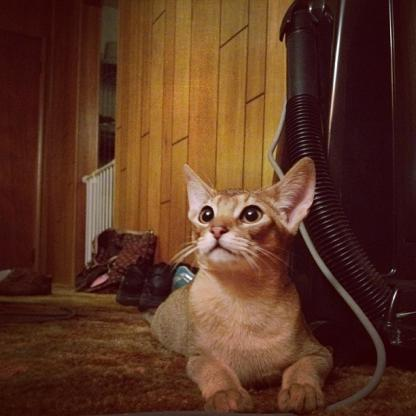Target: (148, 154, 347, 416)
